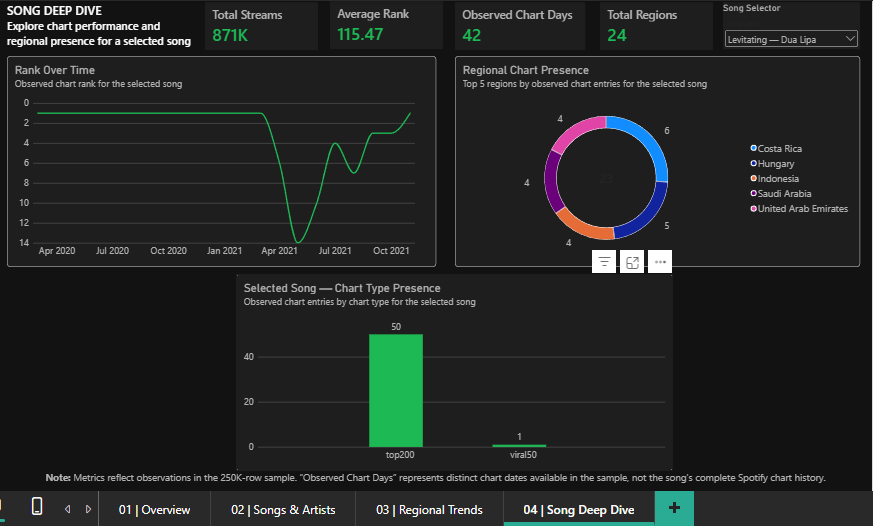

The page's visual inventory and layout, read from the dashboard file:
{"tool":"powerbi","page":{"name":"04 | Song Deep Dive","canvas":[1920,1080],"ordinal":3},"visuals":[{"type":"slicer","title":"Song Selector","fields":{"Values":["dim_song.Song Label"]},"box":[1593.6,2.2,302,104],"z":0},{"type":"cardVisual","fields":{"Data":["_Measures.Total Streams"]},"box":[451.8,2.2,249.1,105.8],"z":1000},{"type":"cardVisual","fields":{"Data":["_Measures.Average Rank"]},"box":[727.3,0,249.1,105.8],"z":2000},{"type":"cardVisual","fields":{"Data":["_Measures.Observed Chart Days"]},"box":[1002.9,2.2,286.5,105.8],"z":3000},{"type":"cardVisual","fields":{"Data":["_Measures.Total Regions"]},"box":[1322.4,2.2,249.1,105.8],"z":4000},{"type":"lineChart","title":"Rank Over Time","fields":{"Category":["dim_date.date.Variation.Date Hierarchy.Year","dim_date.date.Variation.Date Hierarchy.Month"],"Y":["CountNonNull(fact_chart.rank)"]},"box":[15.4,121.2,945.6,465.1],"z":5000},{"type":"donutChart","title":"Regional Chart Presence","fields":{"Category":["dim_region.region"],"Y":["_Measures.Chart Entries"]},"box":[1002.9,121.2,892.7,465.1],"z":6000},{"type":"clusteredColumnChart","title":"Selected Song — Chart Type Presence","fields":{"Category":["dim_chart.chart"],"Y":["_Measures.Chart Entries"]},"box":[520.2,601.7,963.2,434.2],"z":7000},{"type":"textbox","box":[0,1035.9,1919.8,44.1],"z":8000},{"type":"textbox","box":[15.4,2.2,418.8,119],"z":9000}]}

Visuals, with their boxes on the page's 1920x1080 design canvas (x1, y1, x2, y2). These are canvas units, not pixel positions in the 873x526 screenshot, which may show the page scaled, cropped or inside an application window:
"Song Selector" slicer: 1594, 2, 1896, 106
cardVisual - _Measures.Total Streams: 452, 2, 701, 108
cardVisual - _Measures.Average Rank: 727, 0, 976, 106
cardVisual - _Measures.Observed Chart Days: 1003, 2, 1289, 108
cardVisual - _Measures.Total Regions: 1322, 2, 1572, 108
"Rank Over Time" lineChart: 15, 121, 961, 586
"Regional Chart Presence" donutChart: 1003, 121, 1896, 586
"Selected Song — Chart Type Presence" clusteredColumnChart: 520, 602, 1483, 1036
textbox: 0, 1036, 1920, 1080
textbox: 15, 2, 434, 121
